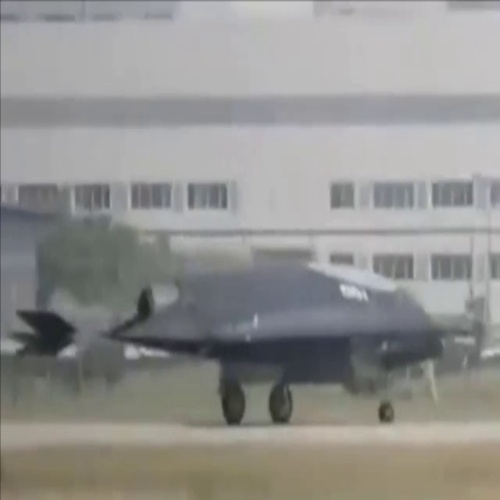uav1064: (98, 252, 474, 425)
